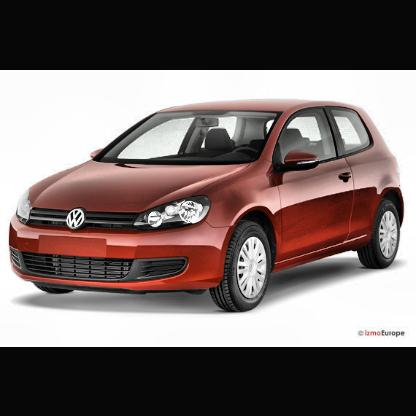Volkswagen Golf Hatchback 2012: (9, 100, 406, 313)
